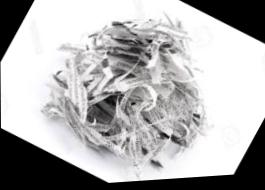paper: (0, 0, 247, 189)
